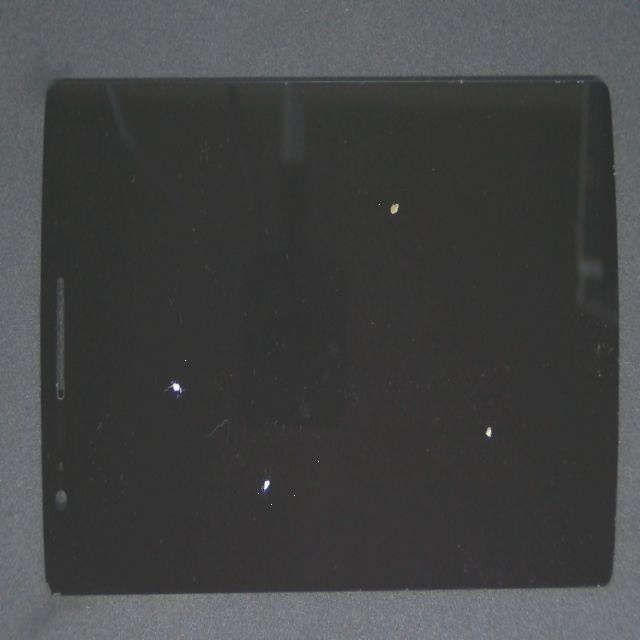stain: (219, 238, 640, 640), (77, 238, 392, 640), (182, 131, 549, 393), (111, 188, 280, 542)
